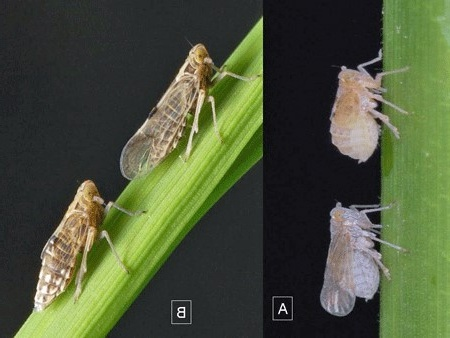Brown_hopper: (116, 33, 242, 181), (27, 180, 127, 315)
